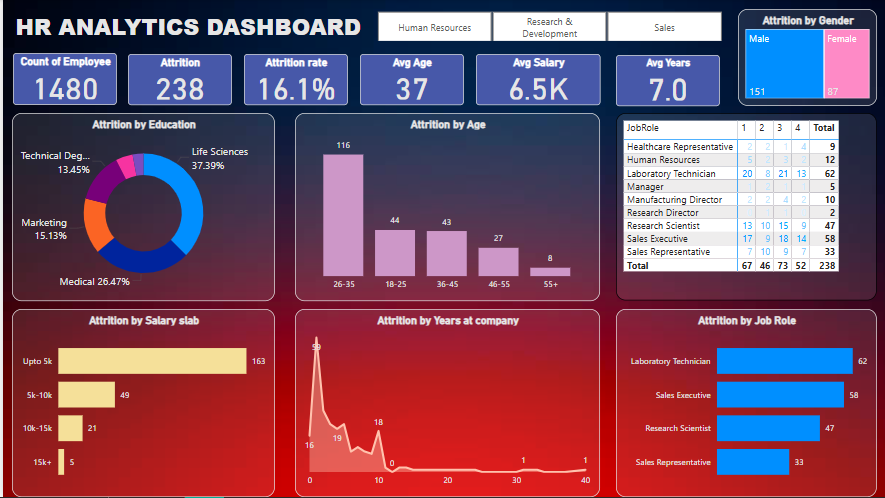

The dashboard page shown, as its layout file describes it:
{"tool":"powerbi","page":{"name":"Page 1","canvas":[1280,720],"ordinal":0},"visuals":[{"type":"card","title":"Count of Employee","fields":{"Values":["CountNonNull(HR_Analytics.EmpID)"]},"box":[14.5,78.1,150.4,75.2],"z":0},{"type":"card","title":"Avg Age","fields":{"Values":["Avg(HR_Analytics.Age)"]},"box":[515.7,79,149.5,73.9],"z":1000},{"type":"card","title":"Attrition rate","fields":{"Values":["HR_Analytics.AttritionRate"]},"box":[347.7,79,149.5,73.9],"z":2000},{"type":"card","title":"Attrition","fields":{"Values":["Sum(HR_Analytics.AttritionCount)"]},"box":[181.4,79,149.5,73.9],"z":3000},{"type":"card","title":"Avg Years","fields":{"Values":["Avg(HR_Analytics.YearsAtCompany)"]},"box":[886.9,80.6,149.5,73.9],"z":4000},{"type":"card","title":"Avg  Salary","fields":{"Values":["Avg(HR_Analytics.MonthlyIncome)"]},"box":[683.7,79,179.7,73.9],"z":5000},{"type":"donutChart","title":"Attrition by Education","fields":{"Y":["Sum(HR_Analytics.AttritionCount)"],"Category":["HR_Analytics.EducationField"]},"box":[13,164.8,380.2,271.8],"z":6000},{"type":"columnChart","title":"Attrition by Age","fields":{"Y":["Sum(HR_Analytics.AttritionCount)"],"Category":["HR_Analytics.AgeGroup"]},"box":[422.2,164.8,441,271.8],"z":7000},{"type":"pivotTable","fields":{"Rows":["HR_Analytics.JobRole"],"Columns":["HR_Analytics.JobSatisfaction"],"Values":["Sum(HR_Analytics.AttritionCount)"]},"box":[886.3,164.8,377.3,271],"z":8000},{"type":"barChart","title":"Attrition by Salary slab","fields":{"Category":["HR_Analytics.SalarySlab"],"Y":["Sum(HR_Analytics.AttritionCount)"]},"box":[13,448.2,380.2,271.8],"z":9000},{"type":"barChart","title":"Attrition by Job Role","fields":{"Category":["HR_Analytics.JobRole"],"Y":["Sum(HR_Analytics.AttritionCount)"]},"box":[886.3,448.2,377.3,271.8],"z":10000},{"type":"areaChart","title":"Attrition by Years at company","fields":{"Category":["HR_Analytics.YearsAtCompany"],"Y":["Sum(HR_Analytics.AttritionCount)"]},"box":[422.2,448.2,441,271.8],"z":11000},{"type":"treemap","title":"Attrition by Gender","fields":{"Group":["HR_Analytics.Gender"],"Values":["Sum(HR_Analytics.AttritionCount)"]},"box":[1062.7,14.5,201,140.2],"z":12000},{"type":"slicer","fields":{"Values":["HR_Analytics.Department"]},"box":[516.1,11.6,546.5,49.2],"z":13000},{"type":"textbox","box":[13,11.6,627.5,83.9],"z":14000}]}

Visuals, with their boxes in screenshot pixels (x1, y1, x2, y2), scaled from the page's 1280x720 canvas onto the 885x498 screenshot:
"Count of Employee" card: x1=10 y1=54 x2=114 y2=106
"Avg Age" card: x1=357 y1=55 x2=460 y2=106
"Attrition rate" card: x1=240 y1=55 x2=344 y2=106
"Attrition" card: x1=125 y1=55 x2=229 y2=106
"Avg Years" card: x1=613 y1=56 x2=717 y2=107
"Avg  Salary" card: x1=473 y1=55 x2=597 y2=106
"Attrition by Education" donutChart: x1=9 y1=114 x2=272 y2=302
"Attrition by Age" columnChart: x1=292 y1=114 x2=597 y2=302
pivotTable - HR_Analytics.JobRole x HR_Analytics.JobSatisfaction: x1=613 y1=114 x2=874 y2=301
"Attrition by Salary slab" barChart: x1=9 y1=310 x2=272 y2=497
"Attrition by Job Role" barChart: x1=613 y1=310 x2=874 y2=497
"Attrition by Years at company" areaChart: x1=292 y1=310 x2=597 y2=497
"Attrition by Gender" treemap: x1=735 y1=10 x2=874 y2=107
slicer - HR_Analytics.Department: x1=357 y1=8 x2=735 y2=42
textbox: x1=9 y1=8 x2=443 y2=66
